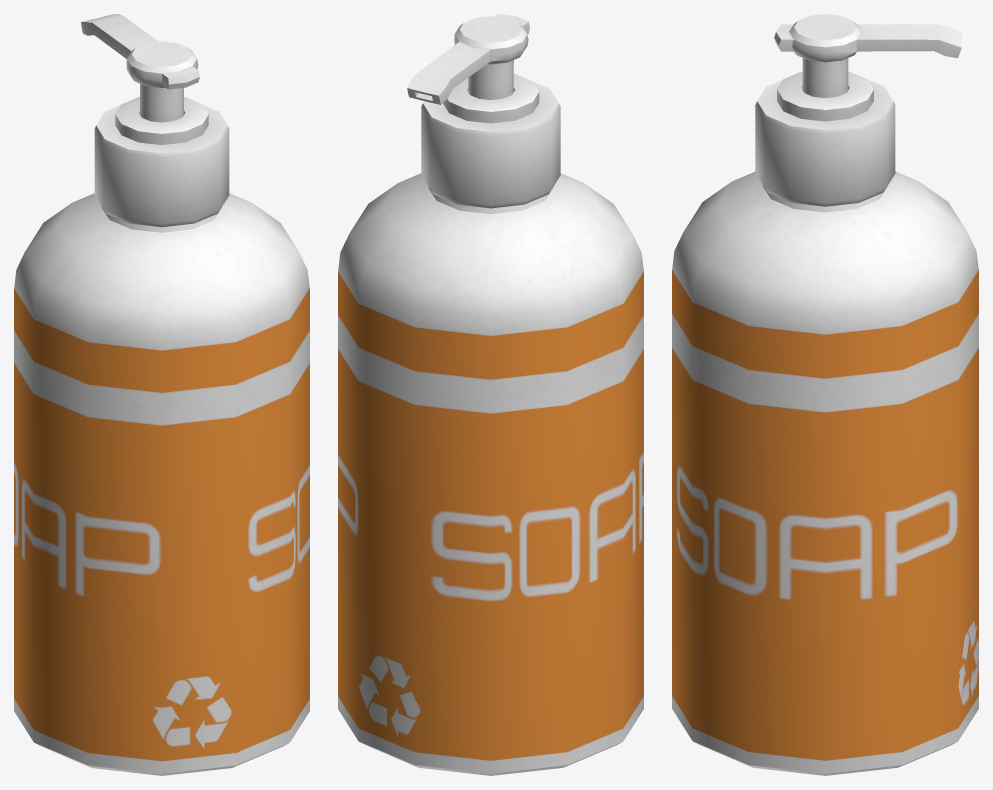
The picture shows the model from 3 angles, left to right: view 1: azimuth 30°, elevation 25°; view 2: azimuth 150°, elevation 25°; view 3: azimuth 270°, elevation 25°; orthographic projection. The views are drawn at different scales.
Visible parts, largest first — view 1: bottle, cap, top; view 2: bottle, cap, top; view 3: bottle, cap, top.
Part boxes in pixels (x1,y1,x2,y2): bottle: (14, 193, 309, 775); cap: (94, 97, 229, 227); top: (81, 14, 199, 122); bottle: (338, 173, 643, 775); cap: (421, 73, 560, 208); top: (407, 14, 529, 104); bottle: (672, 171, 978, 775); cap: (755, 71, 895, 206); top: (774, 14, 961, 97).
Size of the model in its own units: 0.8089 by 2 by 0.8089.
1 material, 1 textured.
